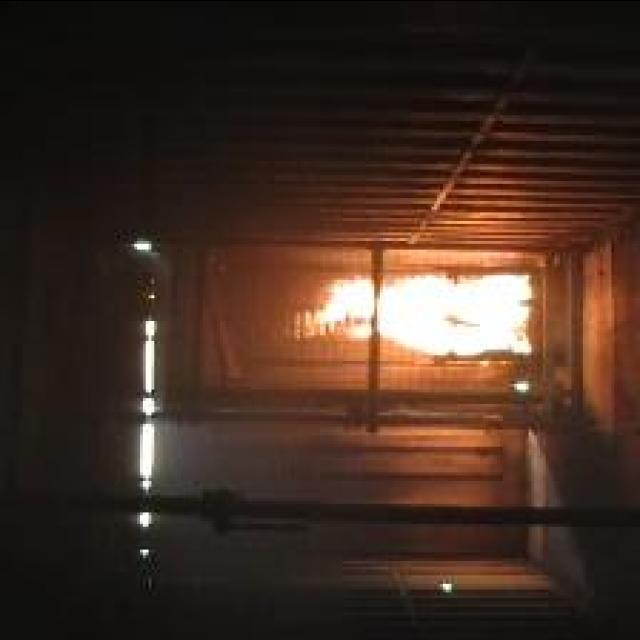Fire: (294, 270, 532, 353)
